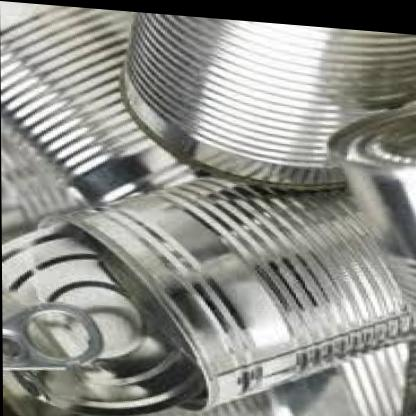Metal: (12, 4, 416, 416)
